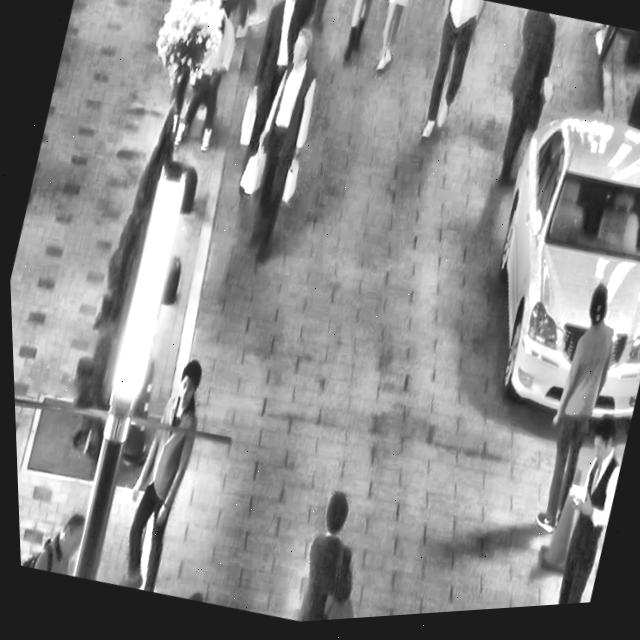light_vehicle: (446, 86, 640, 454)
